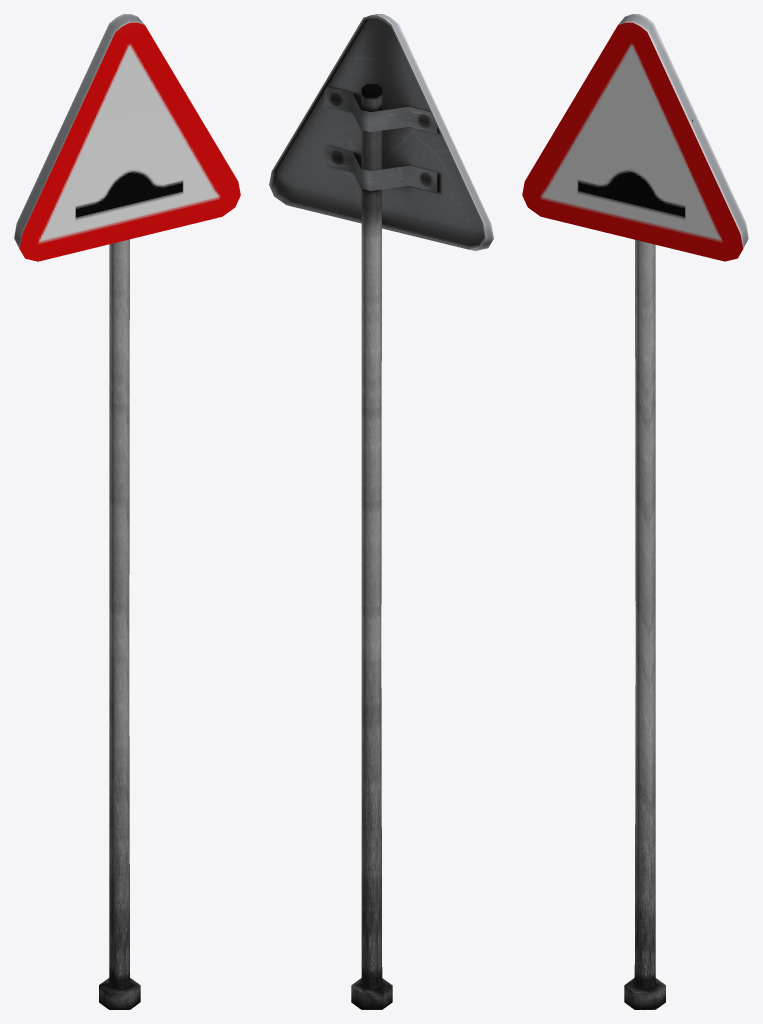
File: ROD0310084.FBX
The picture shows the model from 3 angles, left to right: view 1: azimuth 30°, elevation 25°; view 2: azimuth 150°, elevation 25°; view 3: azimuth 330°, elevation 25°; orthographic projection.
Visible parts, largest first — view 1: smROD0310084; view 2: smROD0310084; view 3: smROD0310084.
Part boxes in pixels (x1=…): smROD0310084: x1=14, y1=14, x2=240, y2=1009; smROD0310084: x1=269, y1=14, x2=493, y2=1009; smROD0310084: x1=522, y1=14, x2=748, y2=1009.
Bounding box in the file's own units: 0.7052 × 3.02 × 0.1216.
Materials: 1 (1 with a texture image).
